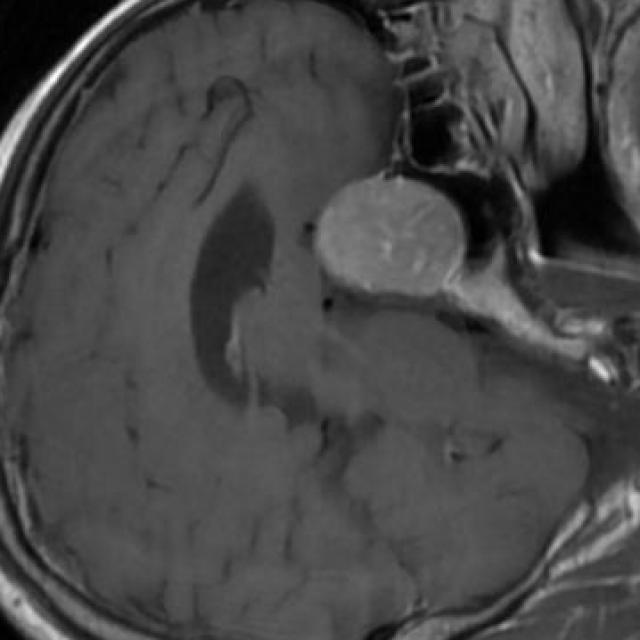pituitary: (317, 176, 465, 298)
